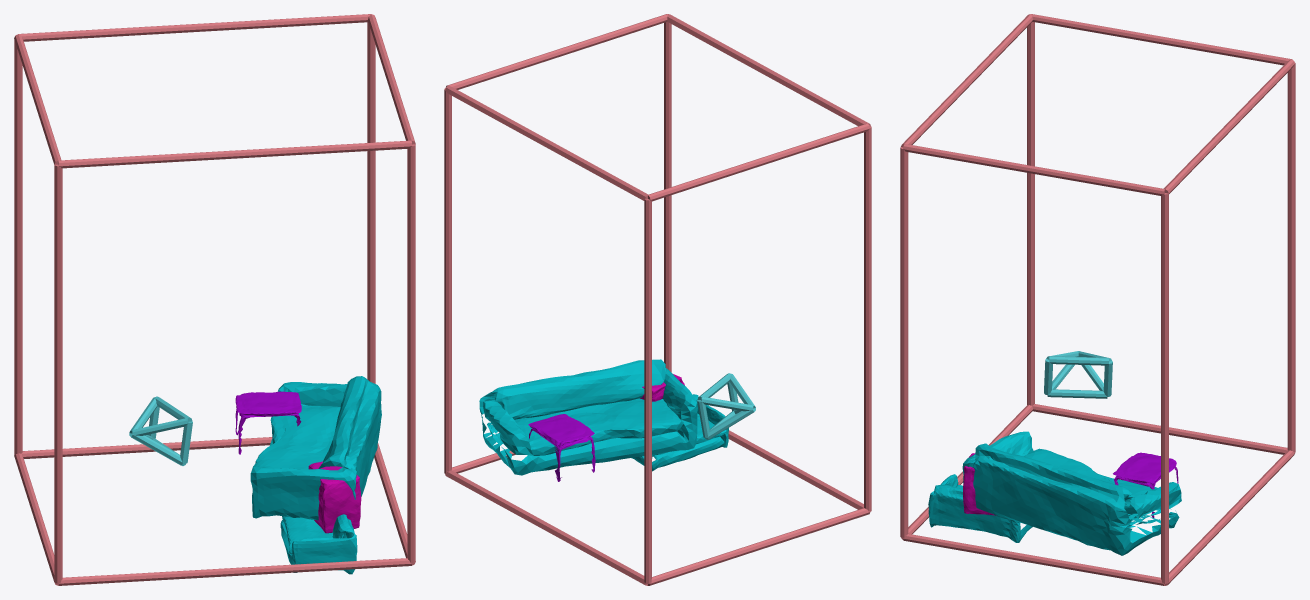
3 renders of one model, left to right at view 1: azimuth 30°, elevation 25°; view 2: azimuth 150°, elevation 25°; view 3: azimuth 270°, elevation 25°, orthographic. The views are drawn at different scales.
Visible parts, largest first — view 1: world; view 2: world; view 3: world.
Boxes of the visible parts, x1,y1,x2,y2 form: world: (14,14,415,585); world: (444,14,871,585); world: (900,14,1295,585).
Size of the model in its own units: 5.26 by 5.56 by 4.92.
